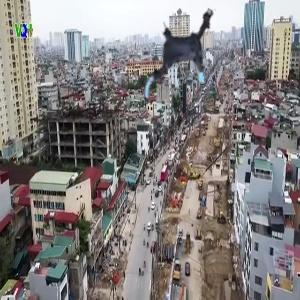drone: (131, 12, 231, 112)
